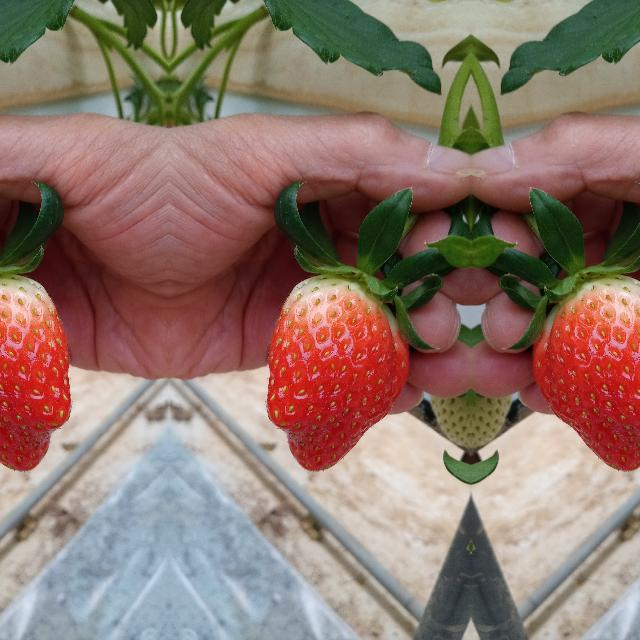Health_100: (264, 274, 408, 472), (532, 273, 640, 472), (0, 273, 72, 472)
